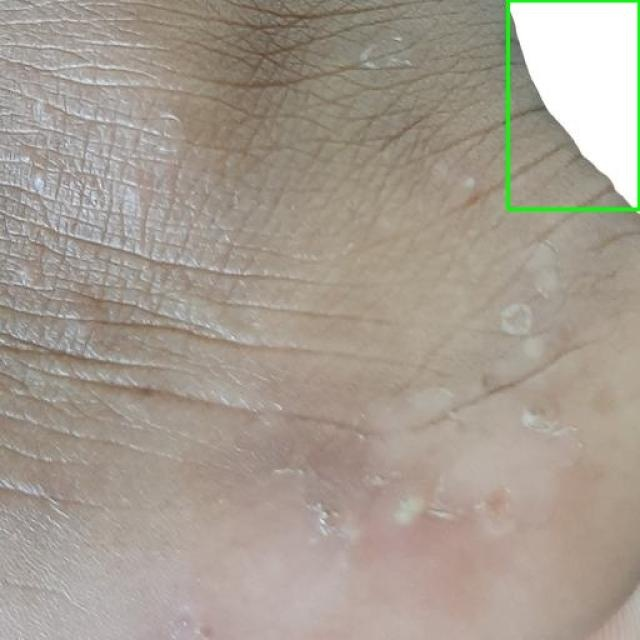Scabies: (508, 0, 639, 209)
